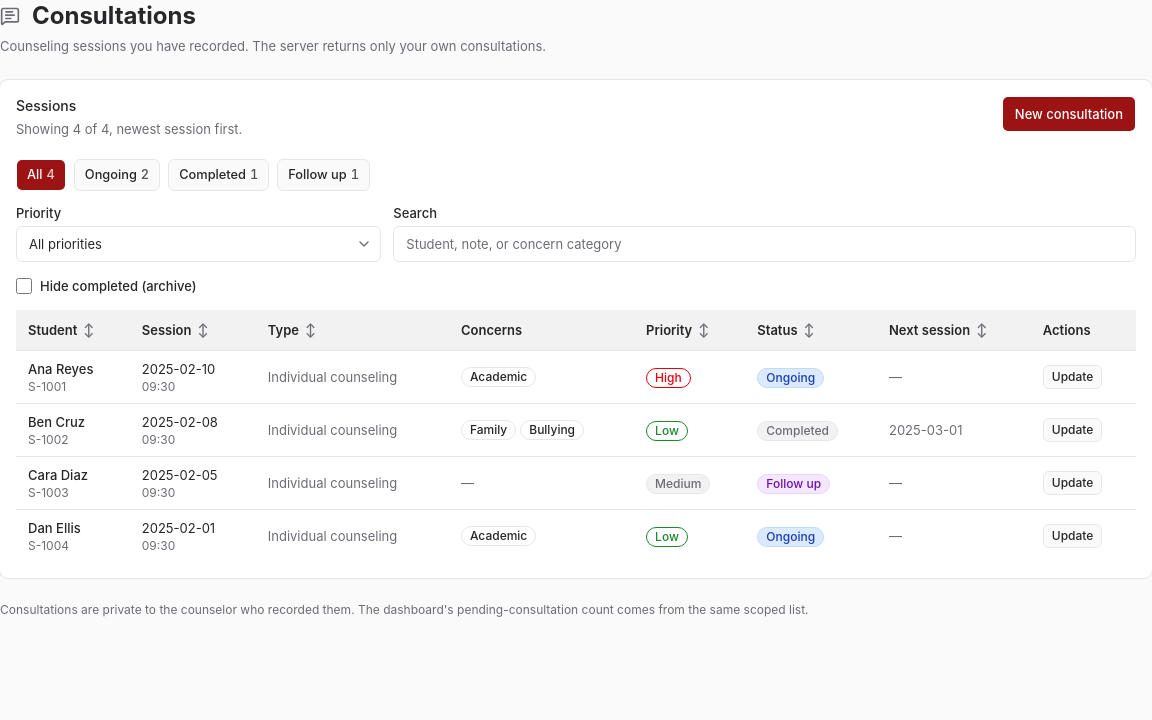
ConsultationsPage › surfaces a failed create without closing the dialog
Expected: the text "Ana Reyes" is shown, x1=28 y1=361 x2=93 y2=377
Click the button "New consultation" at (1069, 114), box x1=1002 y1=96 x2=1136 y2=132
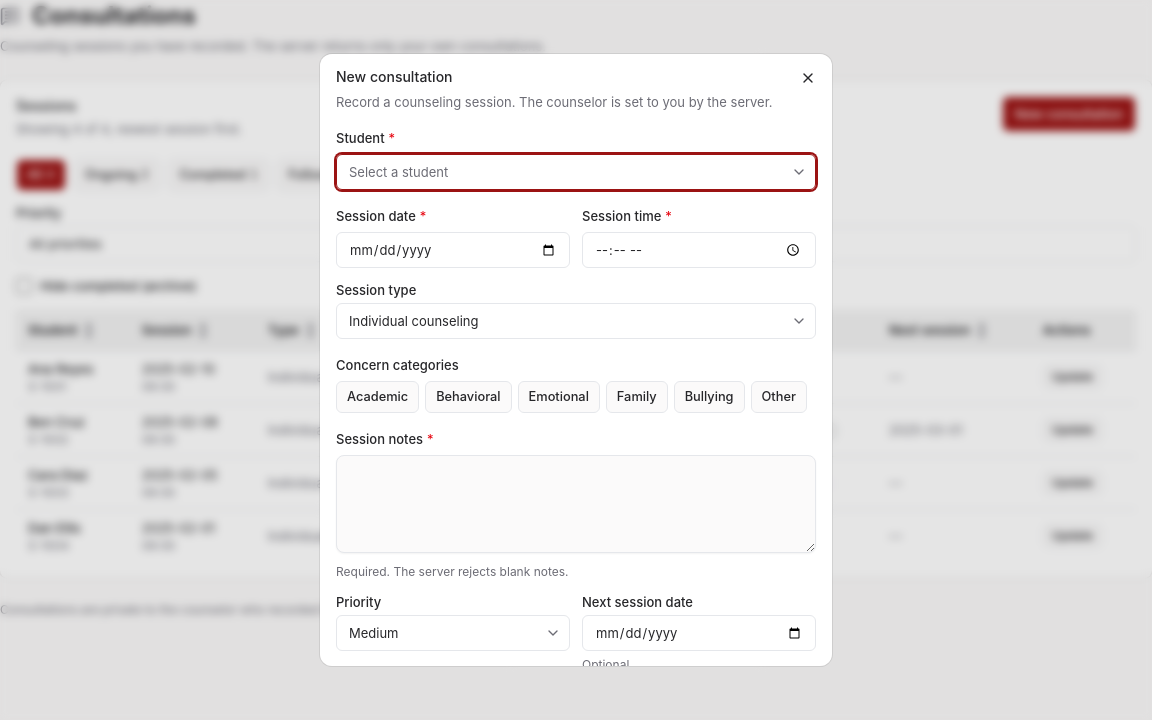
Expected: the dropdown labelled "Select a student" is enabled
Press ArrowDown in the dropdown labelled "Select a student", box x1=336 y1=154 x2=816 y2=190
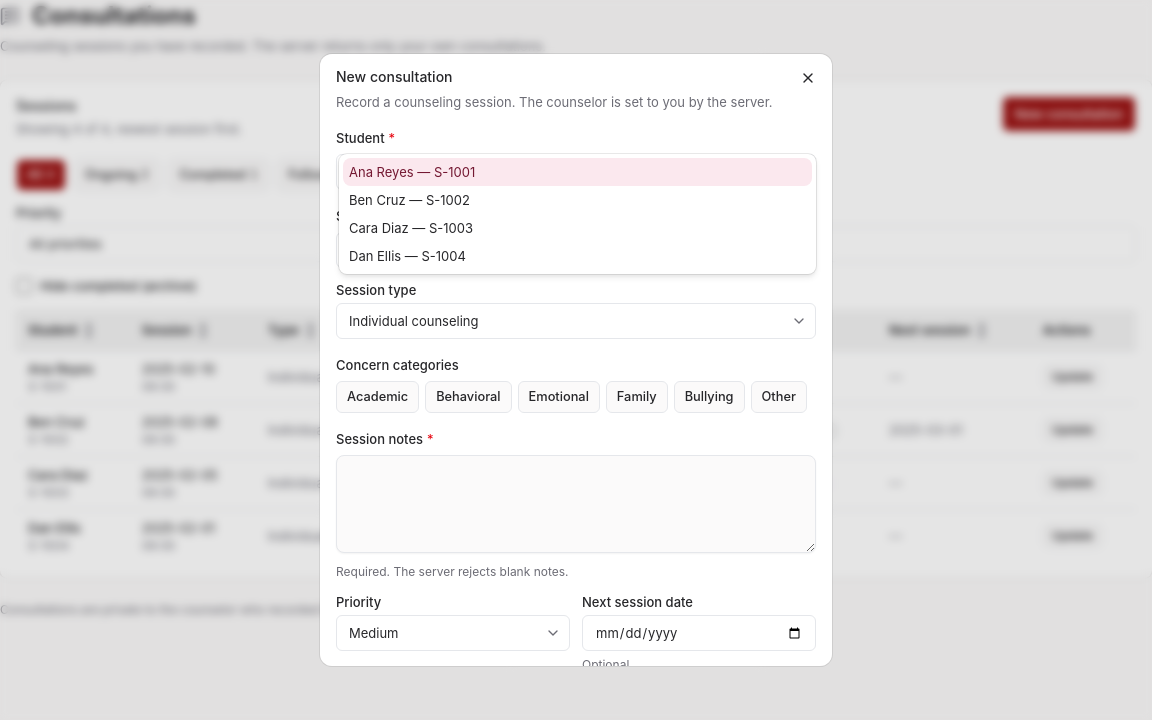
Click the option "Ana Reyes — S-1001" at (381, 172), box x1=343 y1=158 x2=812 y2=186
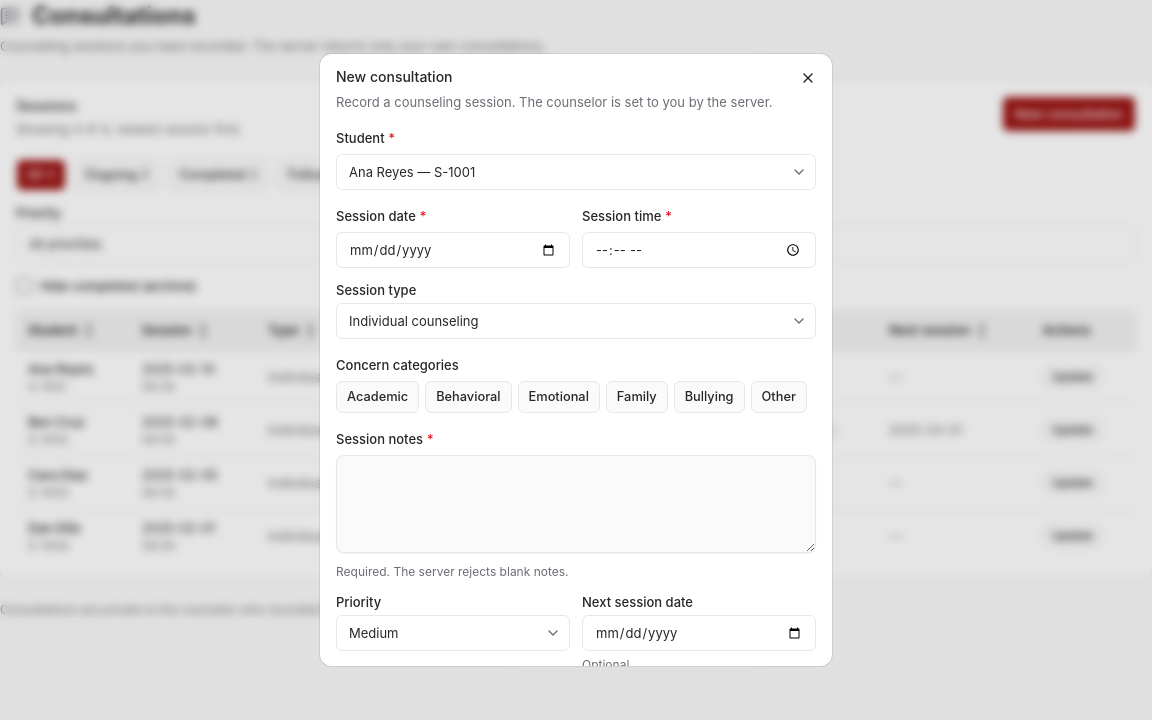
Type "2025-03-04" into the date field labelled "Session date" at (453, 250), box x1=336 y1=232 x2=570 y2=268
Type "10:15" into the time field labelled "Session time" at (699, 250), box x1=582 y1=232 x2=816 y2=268
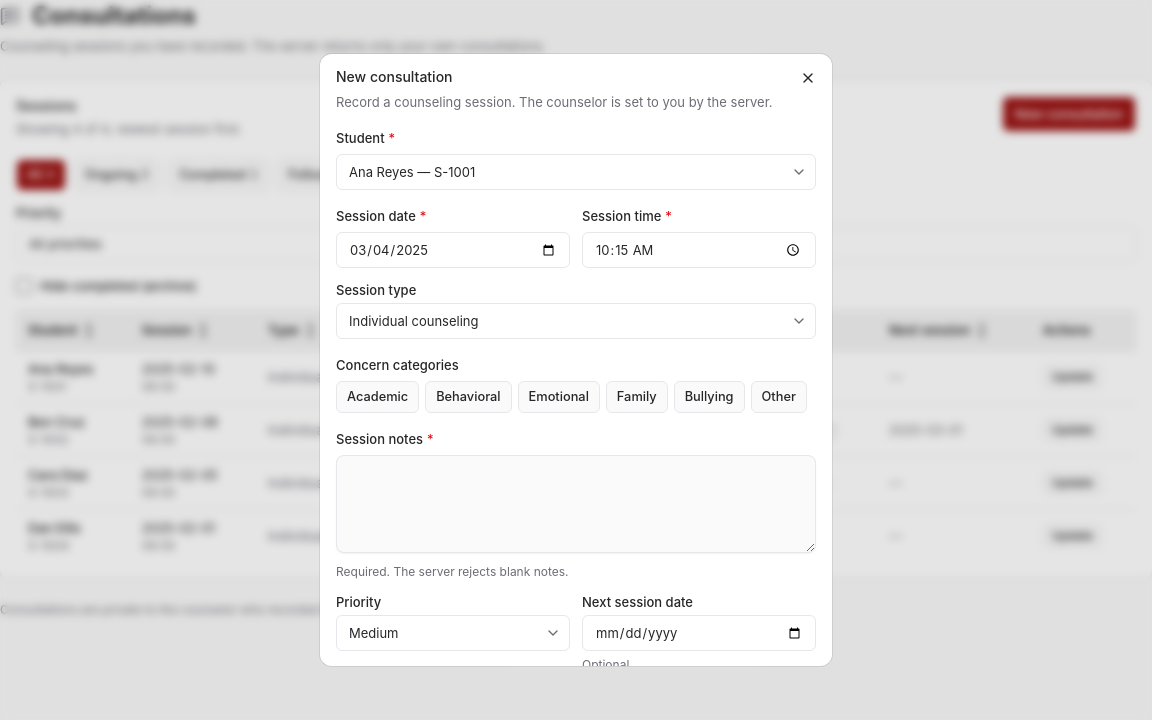
Type "Notes." into the text box labelled "Session notes" at (576, 504), box x1=336 y1=455 x2=816 y2=553
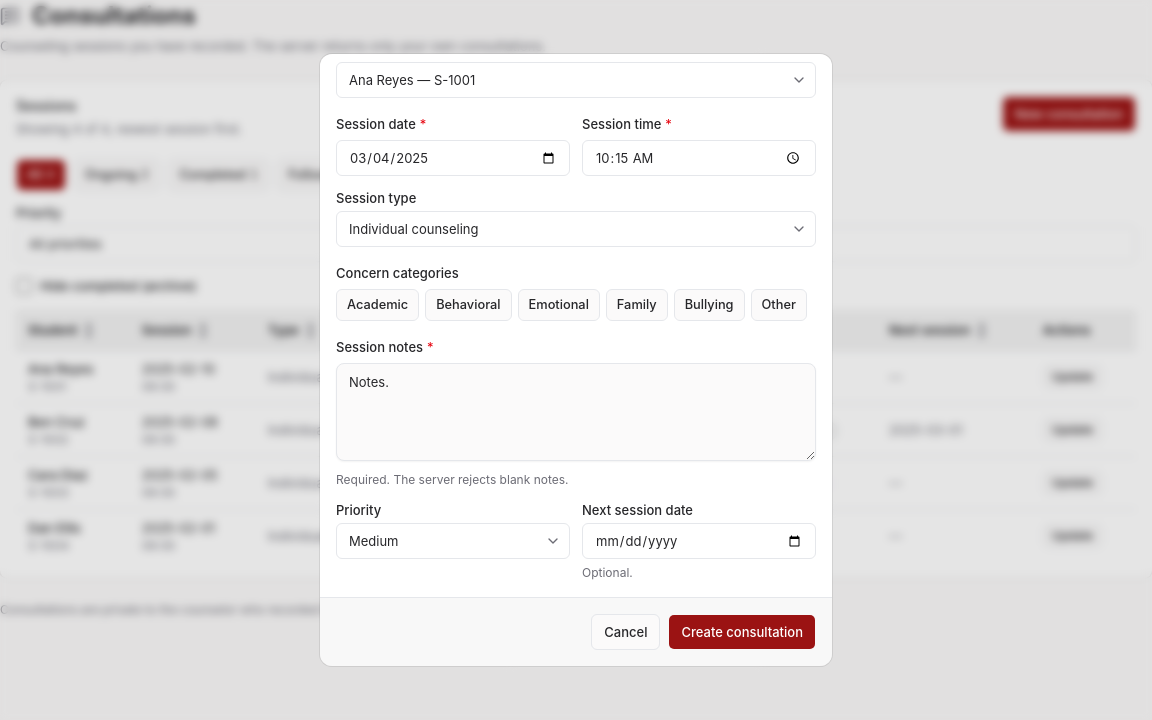
Click the button "Create consultation" at (742, 632), box x1=668 y1=614 x2=816 y2=650
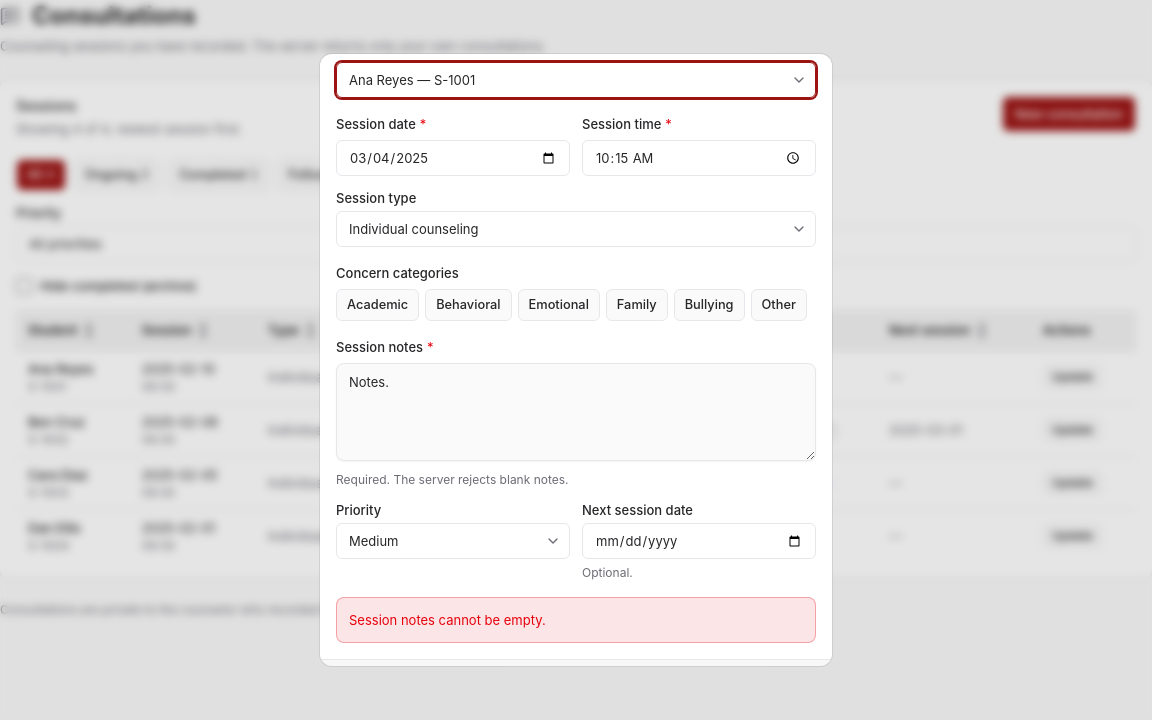
Expected: the message reads "Session notes cannot be empty.", x1=349 y1=612 x2=546 y2=628
